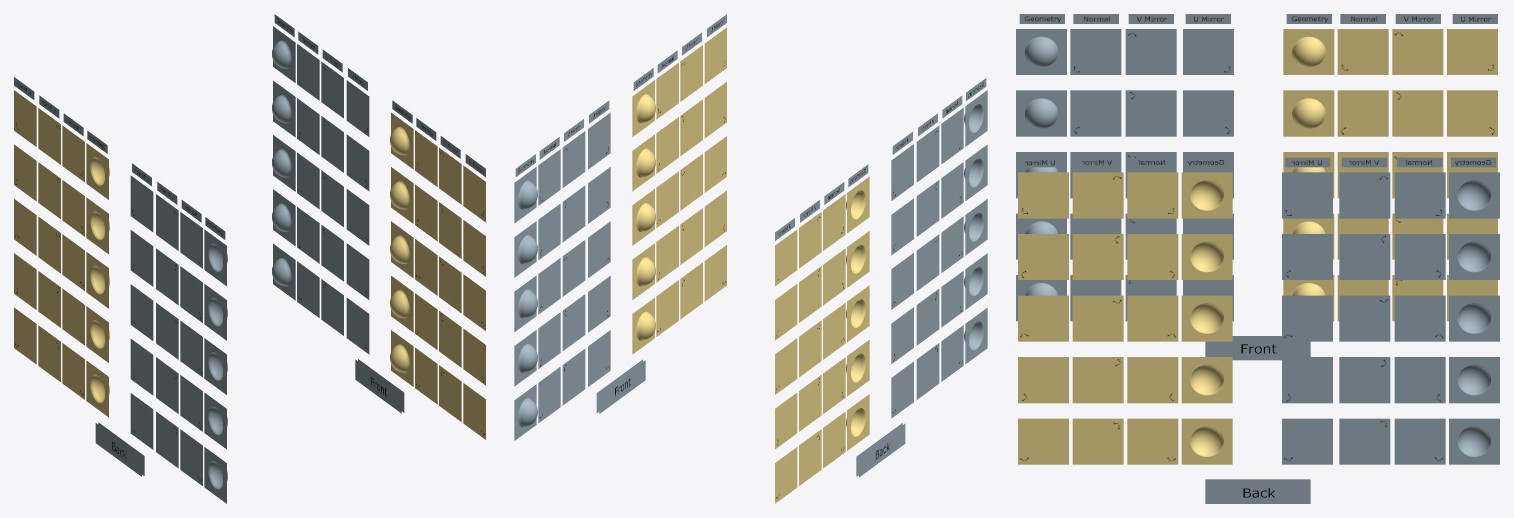
The model's file is NormalTangentMirrorTest._AngleTestgltf.gltf.
3 renders of one model, left to right at view 1: azimuth 30°, elevation 25°; view 2: azimuth 150°, elevation 25°; view 3: azimuth 270°, elevation 25°, orthographic. The views are drawn at different scales.
Parts seen in each view (by area): view 1: NormalTangentTest_low.001, NormalTangentTest_low; view 2: NormalTangentTest_low, NormalTangentTest_low.001; view 3: NormalTangentTest_low.001, NormalTangentTest_low.
Boxes of the visible parts, x1,y1,x2,y2 form: NormalTangentTest_low.001: [272, 14, 485, 439]; NormalTangentTest_low: [14, 77, 227, 503]; NormalTangentTest_low: [775, 78, 987, 503]; NormalTangentTest_low.001: [514, 14, 726, 440]; NormalTangentTest_low.001: [1018, 157, 1499, 503]; NormalTangentTest_low: [1016, 14, 1497, 360].
Bounding box in the file's own units: 2.02 × 2.25 × 2.85.
1 material, 1 textured.
